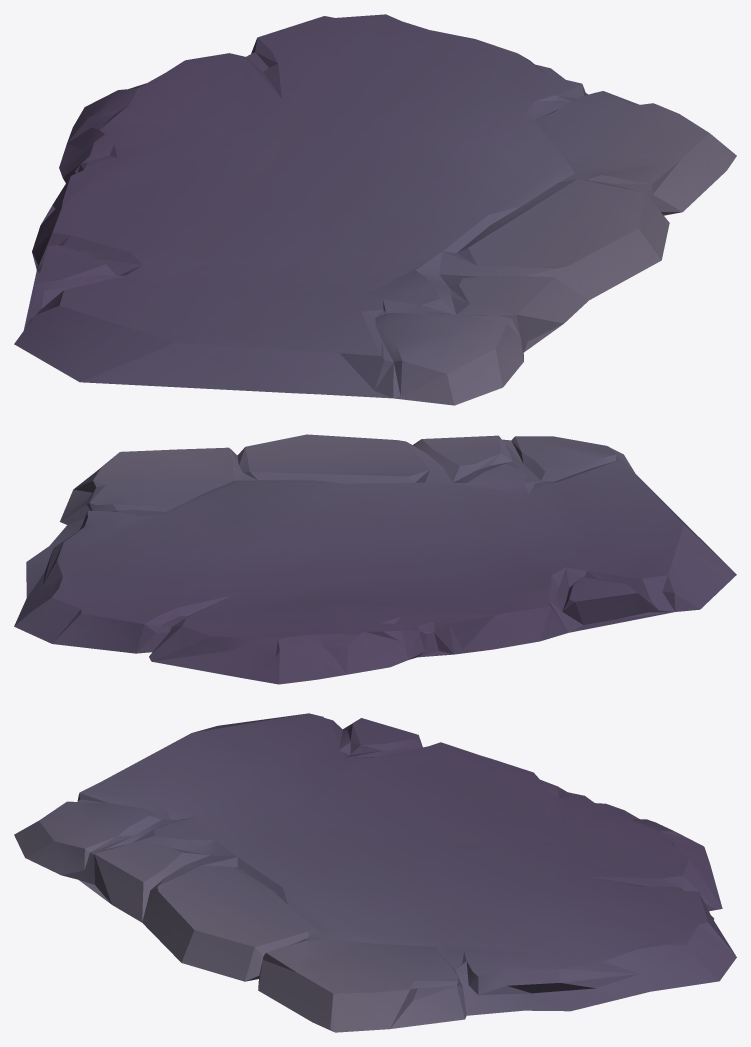
Rendered from rock_flat.001.fbx.
3 renders of one model, top to bottom at view 1: azimuth 30°, elevation 25°; view 2: azimuth 150°, elevation 25°; view 3: azimuth 270°, elevation 25°, orthographic. The views are drawn at different scales.
Parts seen in each view (by area): view 1: rock_flat.001; view 2: rock_flat.001; view 3: rock_flat.001.
Part boxes in pixels (x1,y1,x2,y2): rock_flat.001: (14, 14, 736, 405); rock_flat.001: (14, 434, 736, 684); rock_flat.001: (14, 713, 736, 1032).
Bounding box in the file's own units: 758 × 31.09 × 744.
